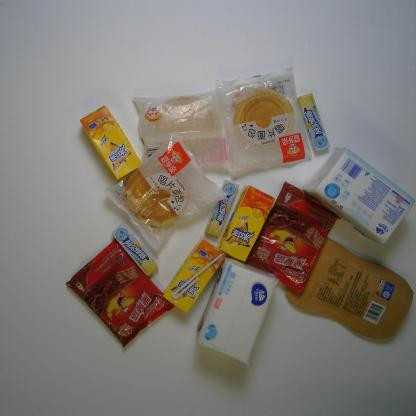Candy: (111, 224, 159, 277), (205, 179, 239, 238), (299, 94, 330, 154)
Dessert: (104, 132, 226, 255), (66, 236, 175, 349), (215, 65, 313, 179), (244, 181, 342, 295), (133, 86, 236, 176)
Dried Fruit: (283, 230, 415, 339)
Drink: (164, 238, 228, 314), (80, 106, 142, 182), (219, 186, 275, 263)
Tissue: (305, 146, 416, 245), (195, 254, 280, 364)
